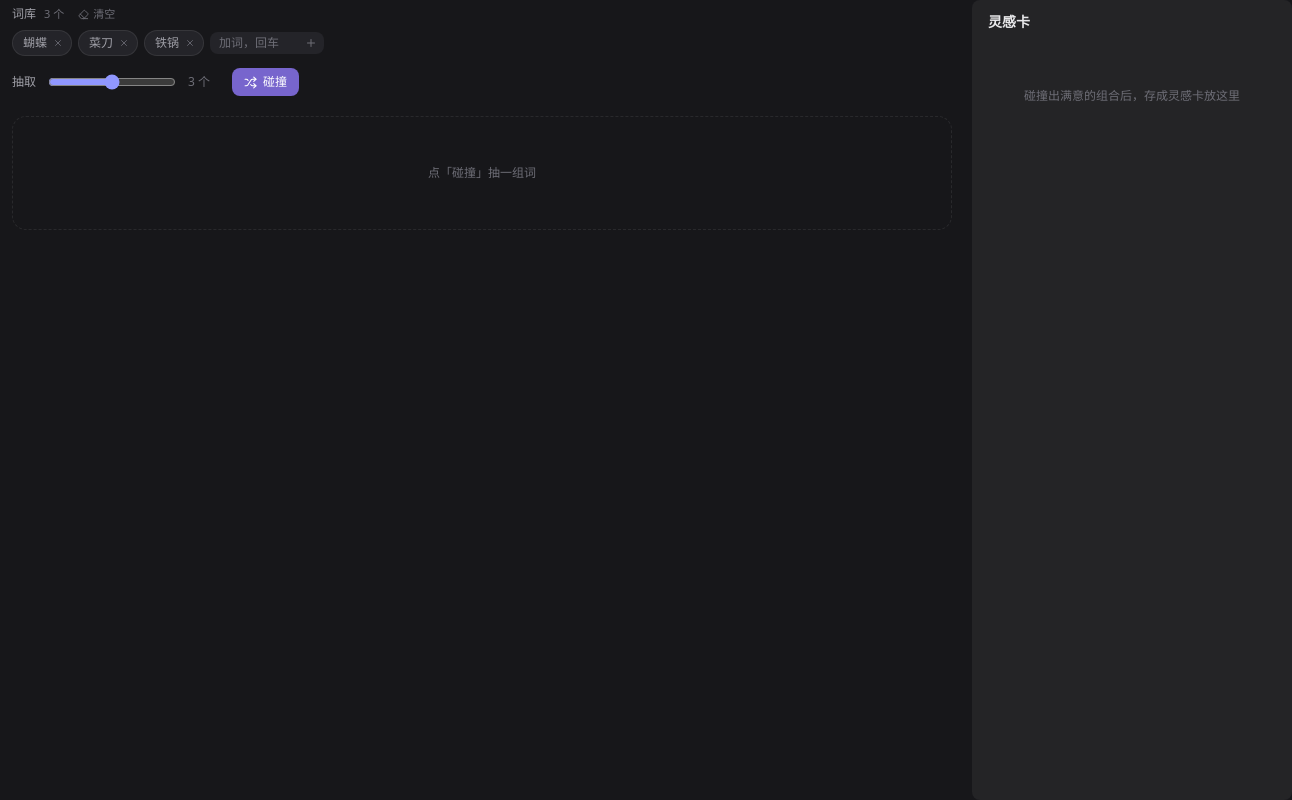
Scenario: BumpWorkspace › 碰撞抽出词组并渲染大卡片，按钮改为换一组
Check: the text "蝴蝶" is shown, box [12,30,72,56]
Click the button "碰撞".
click(266, 82)  # box [232,68,299,96]
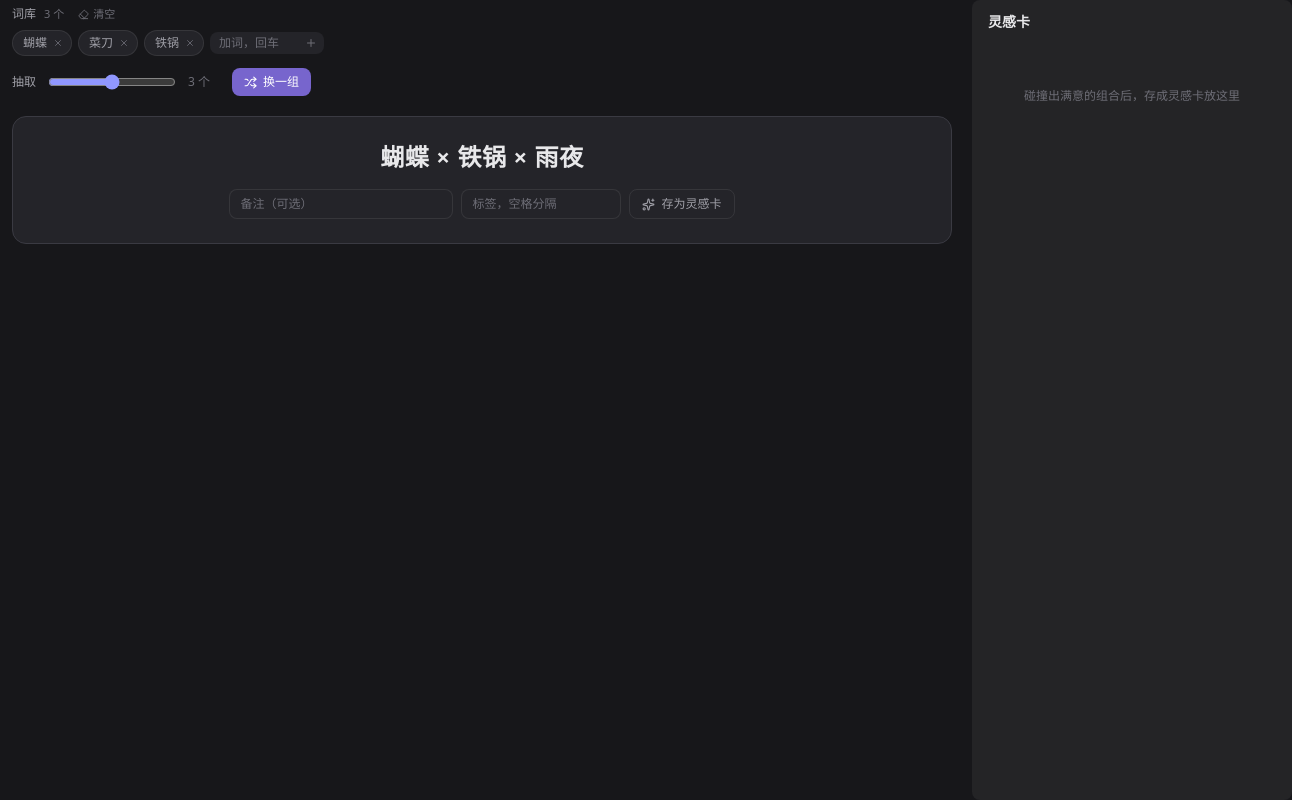
Check: the text "蝴蝶 × 铁锅 × 雨夜" is shown, box [380,140,584,173]
Check: the button "换一组" is shown, box [232,68,311,96]
